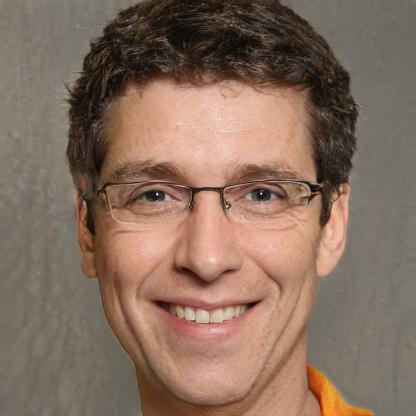glasses: (97, 172, 322, 230)
